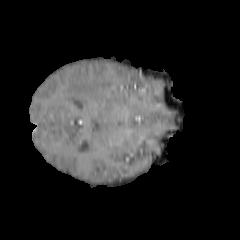glioma: (61, 60, 132, 109)
